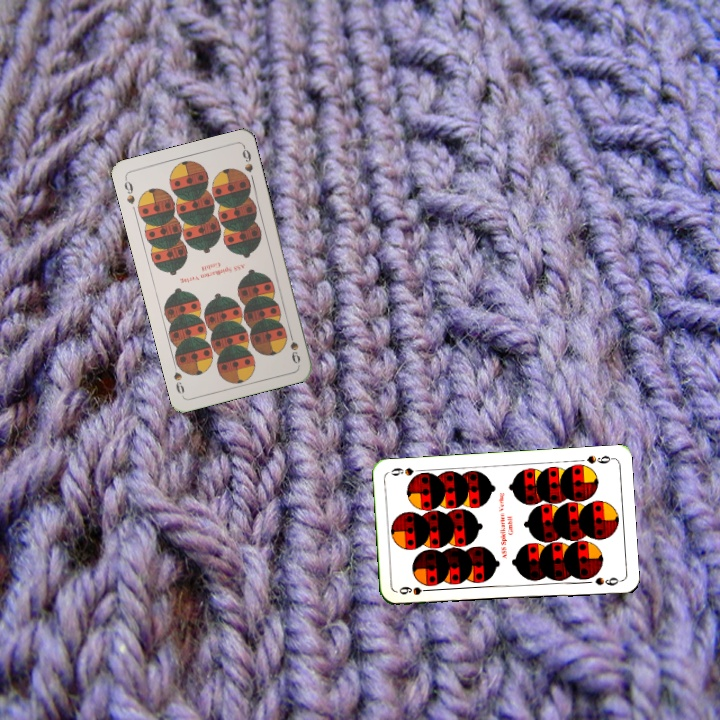S9: (285, 326, 303, 366), (395, 582, 435, 598), (120, 174, 138, 207), (583, 451, 616, 466)
